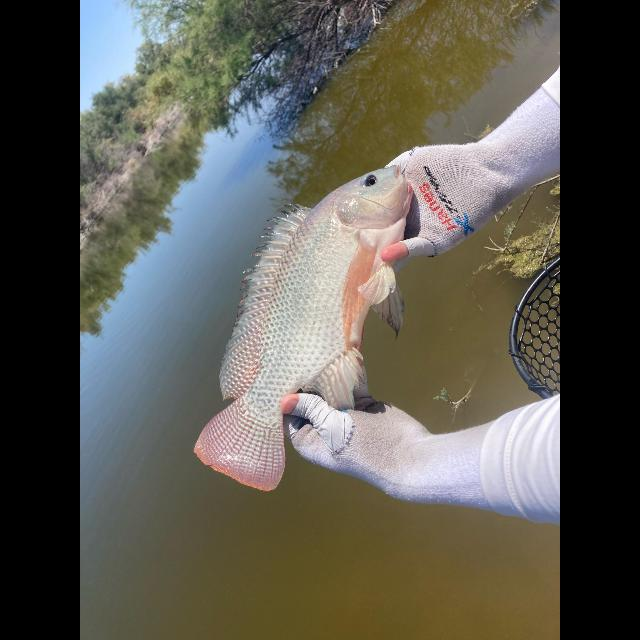Tilapia: (193, 164, 415, 493)
